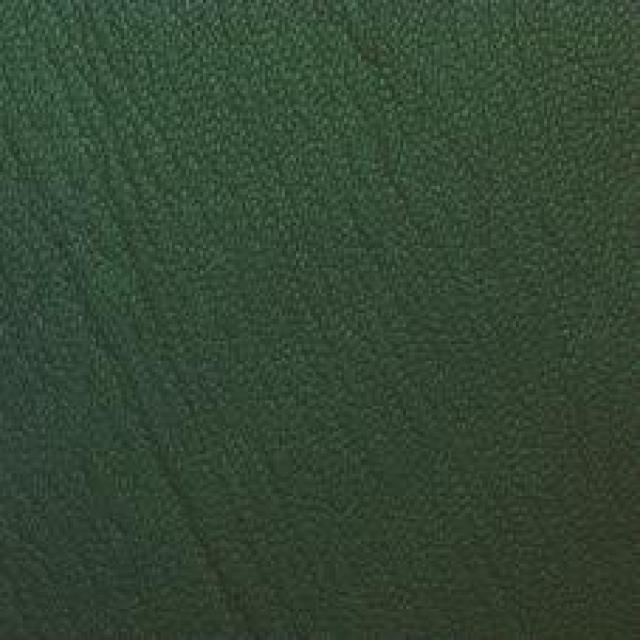Growth Marks: (36, 220, 160, 427), (133, 442, 284, 611), (301, 26, 444, 152)
